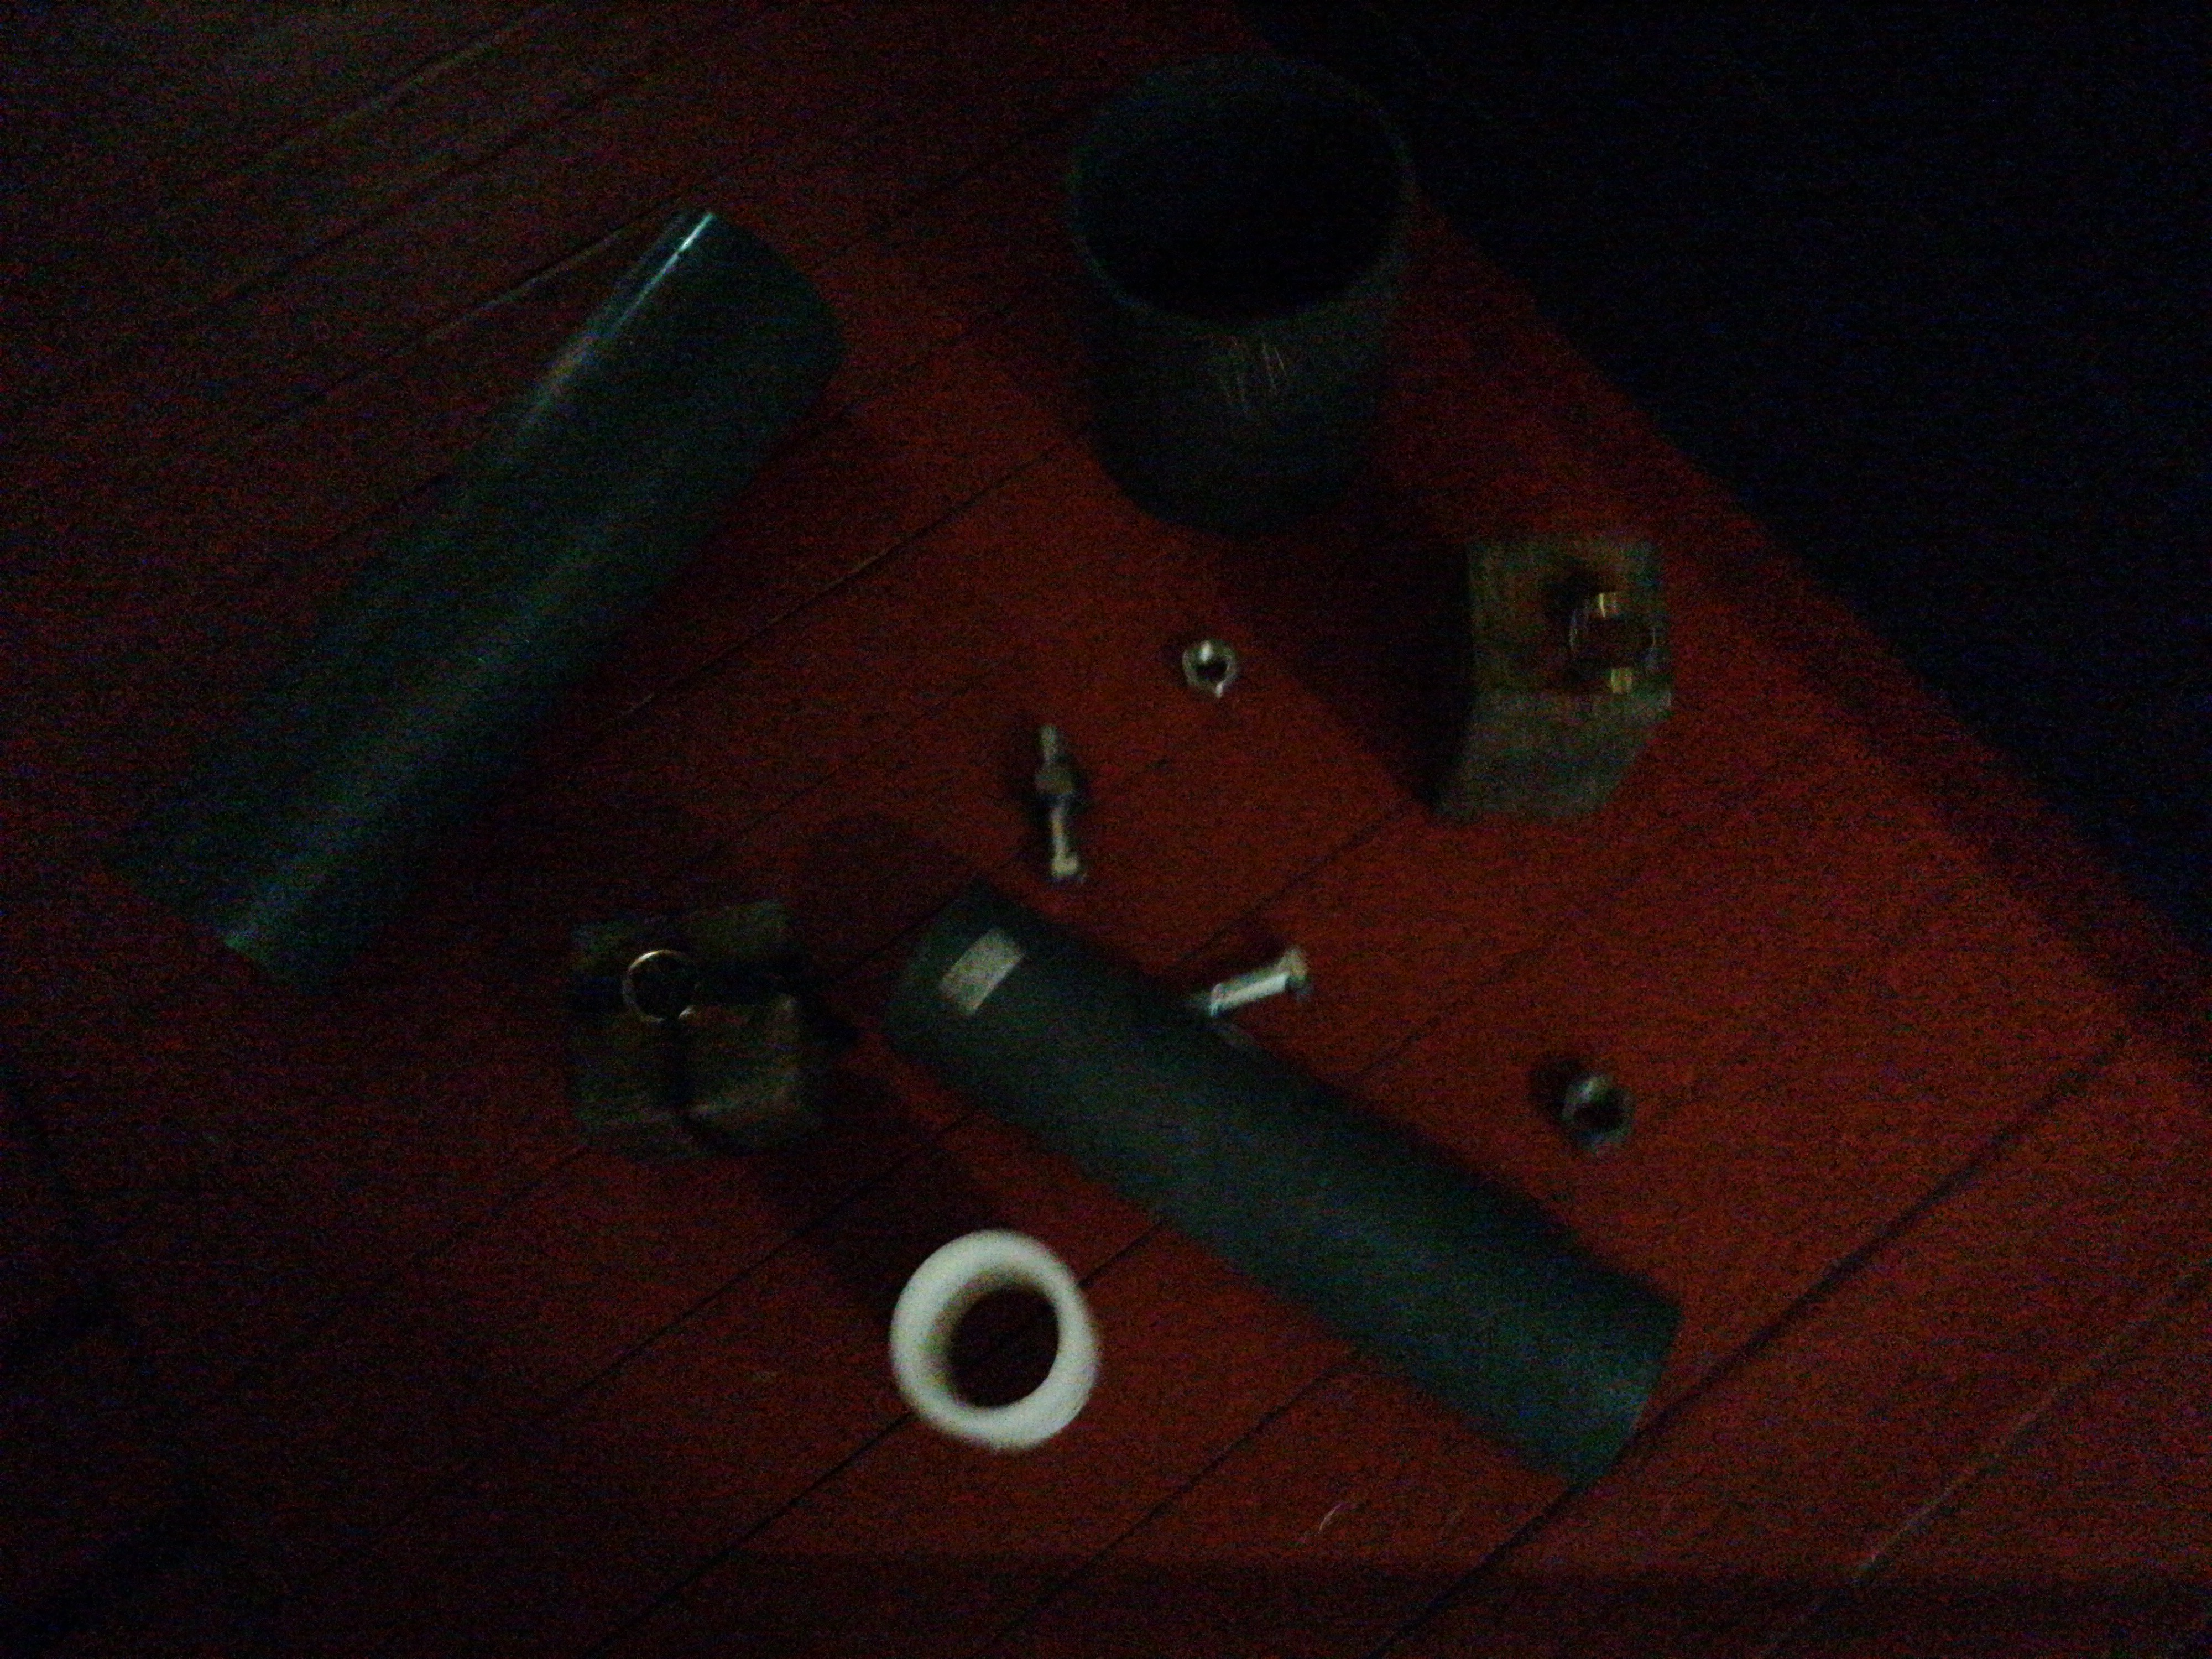bolt: (1190, 946, 1318, 1014), (1035, 721, 1087, 889)
led_block: (1418, 530, 1672, 831), (566, 901, 843, 1173)
nut: (1557, 1072, 1644, 1159), (1179, 638, 1245, 701), (1022, 763, 1101, 805)
pipe: (99, 200, 845, 999), (881, 870, 1688, 1478), (1059, 51, 1416, 533), (890, 1234, 1103, 1459)
